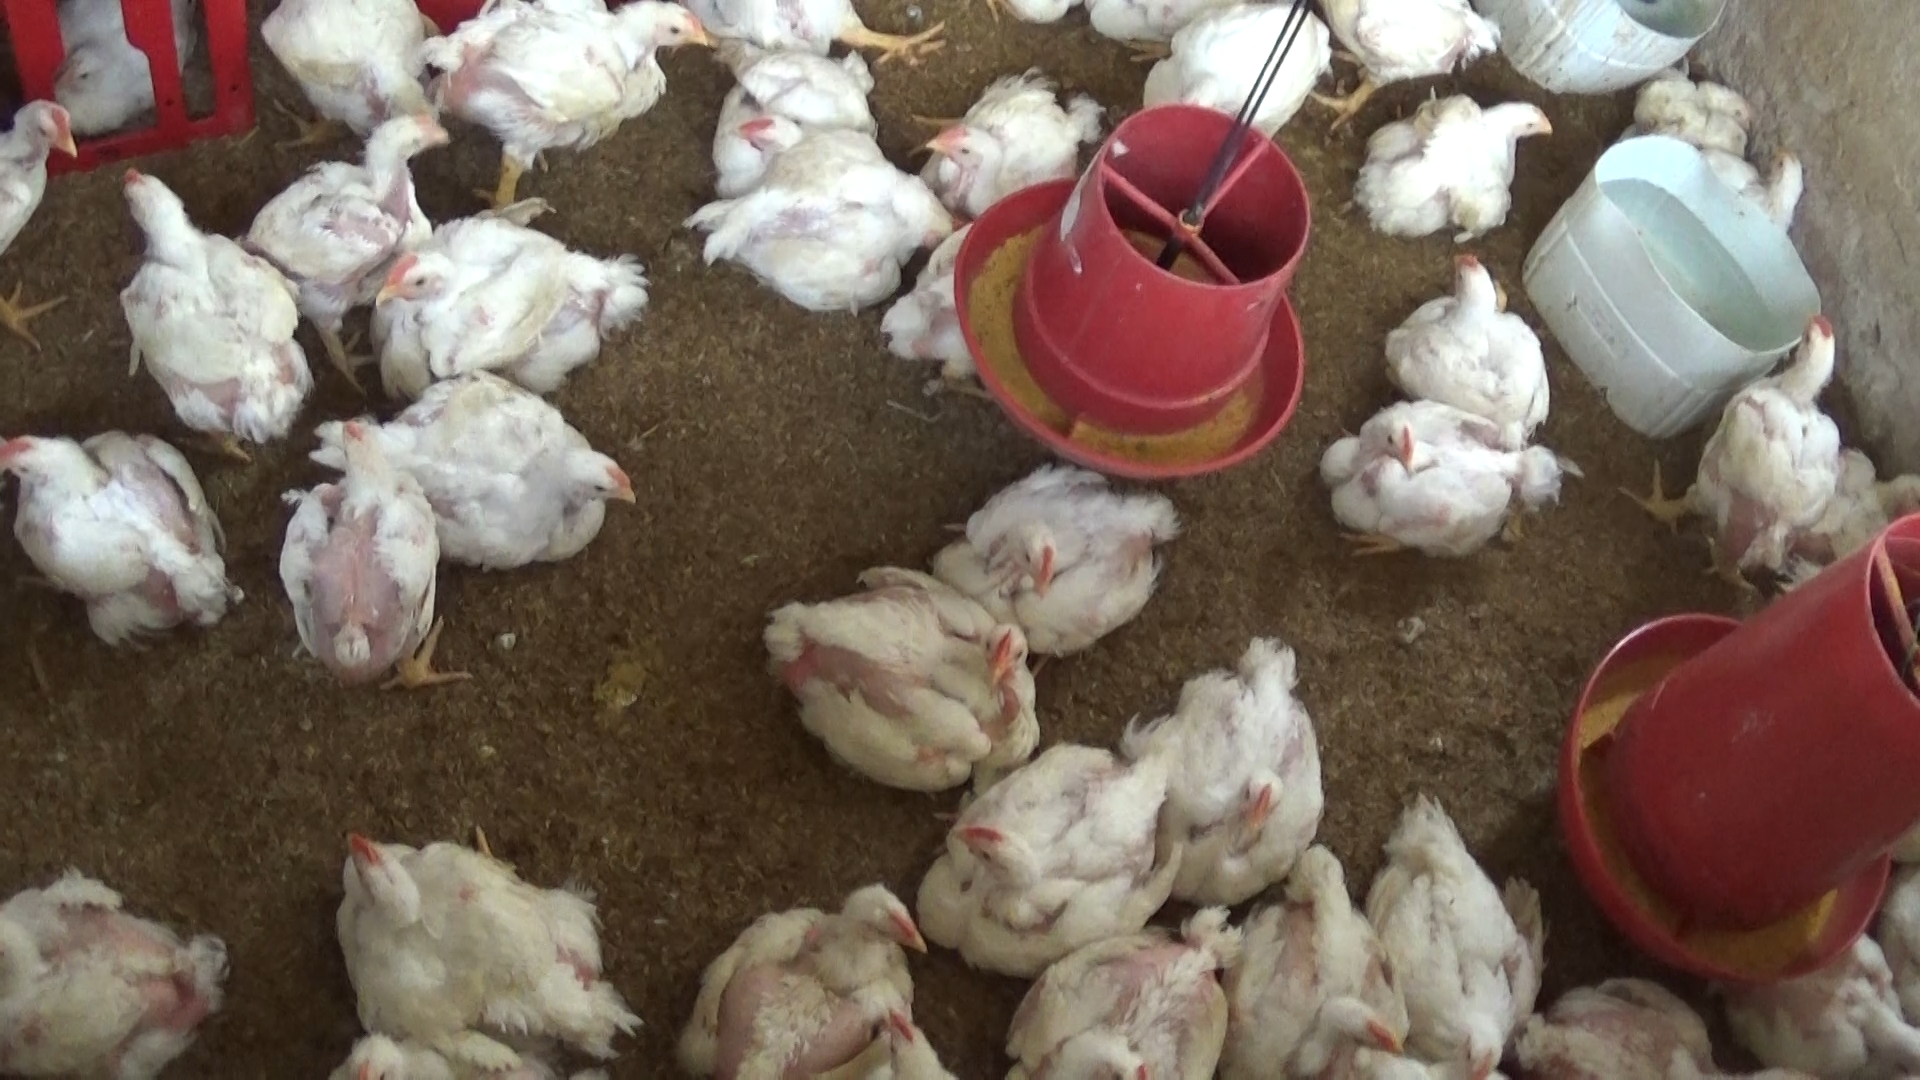Pollos: (324, 823, 641, 1062), (309, 367, 640, 585), (761, 563, 1044, 794), (0, 411, 255, 653), (107, 152, 313, 447), (1631, 307, 1841, 585), (272, 425, 477, 708), (261, 119, 473, 392), (676, 868, 945, 1080), (1361, 785, 1551, 1080), (1124, 637, 1332, 905), (375, 214, 653, 413), (897, 737, 1153, 945), (940, 462, 1187, 665), (0, 872, 240, 1080), (1228, 825, 1418, 1080), (684, 127, 938, 316), (1000, 898, 1250, 1080), (1317, 393, 1551, 578), (433, 0, 702, 152), (1375, 237, 1557, 440), (1338, 88, 1567, 248), (1631, 69, 1818, 228), (924, 65, 1114, 222), (861, 228, 1026, 402), (711, 42, 886, 204), (1739, 928, 1920, 1080), (1133, 0, 1335, 131), (0, 74, 94, 349), (258, 3, 448, 138), (1323, 0, 1505, 137), (1522, 978, 1721, 1080)
